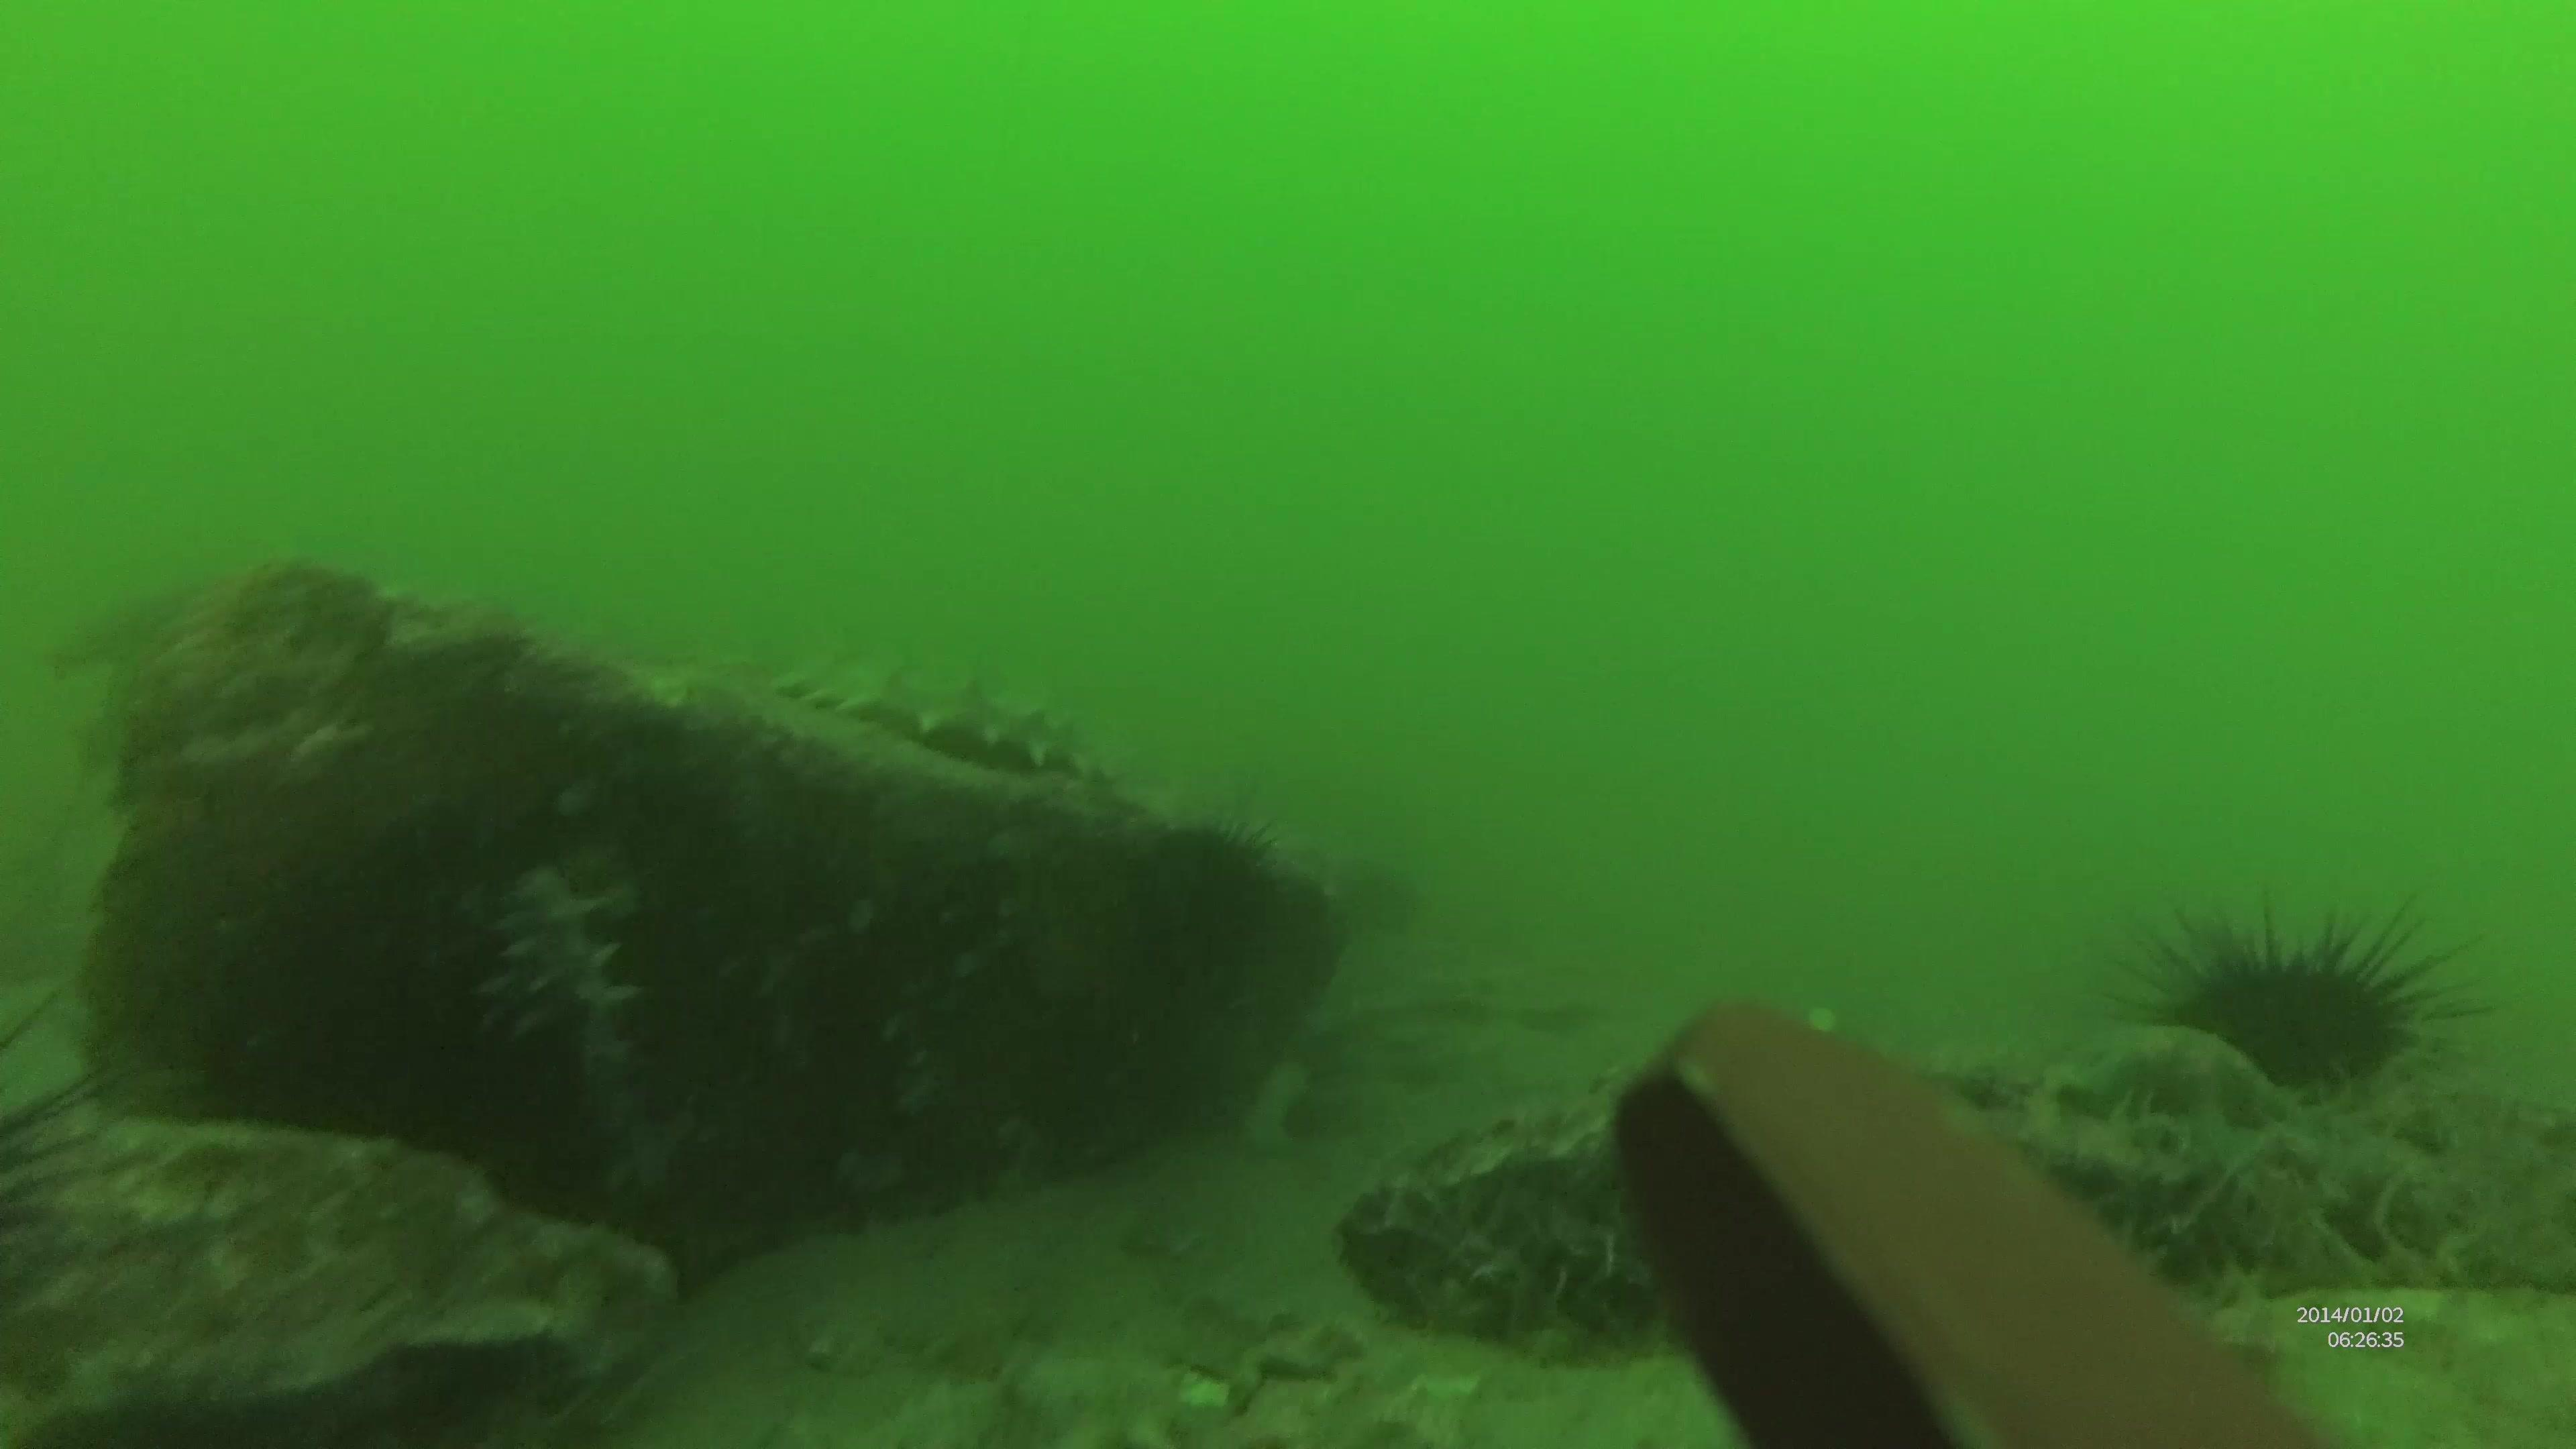echinus: (2118, 902, 2489, 1102), (1131, 819, 1283, 966)
holothurian: (471, 869, 669, 1215), (766, 637, 1125, 791)
